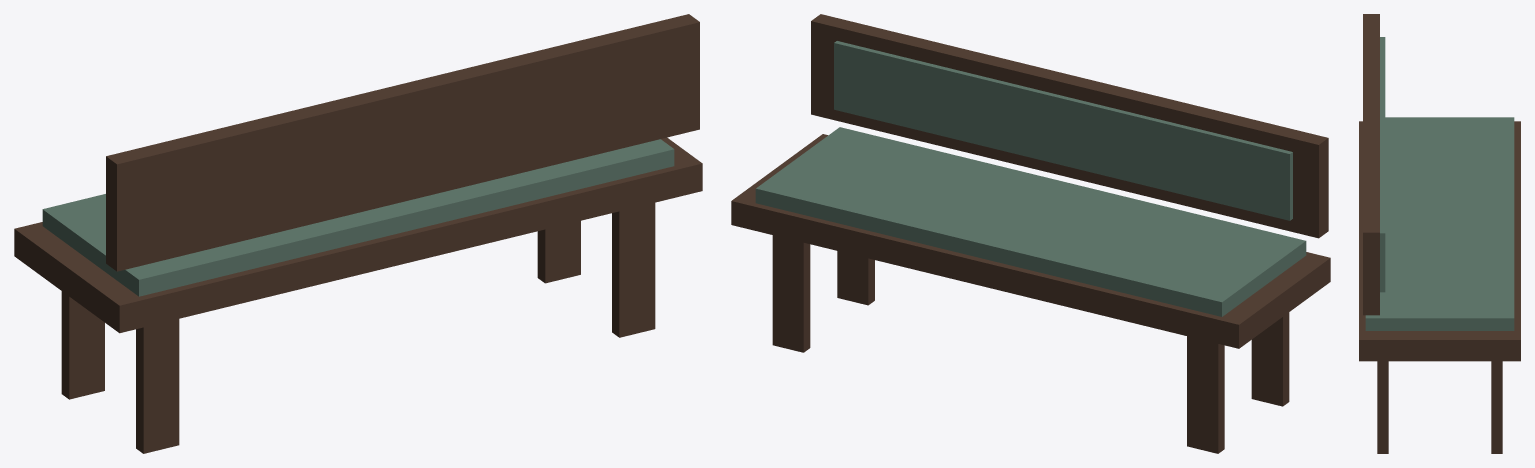
The model's file is LP_MaintenanceSouth_StaffBench.fbx.
3 views of the same model, side by side, from view 1: azimuth 30°, elevation 25°; view 2: azimuth 150°, elevation 25°; view 3: azimuth 270°, elevation 25° (orthographic). The views are drawn at different scales.
Parts seen in each view (by area): view 1: Walnut, SageUpholstery; view 2: SageUpholstery, Walnut; view 3: SageUpholstery, Walnut.
Boxes of the visible parts, <box> form: Walnut: <box>14,14,702,453</box>; SageUpholstery: <box>42,139,674,296</box>; SageUpholstery: <box>755,41,1306,316</box>; Walnut: <box>731,14,1330,453</box>; SageUpholstery: <box>1365,37,1514,330</box>; Walnut: <box>1359,14,1520,453</box>.
Bounding box in the file's own units: 160 × 80 × 50.
